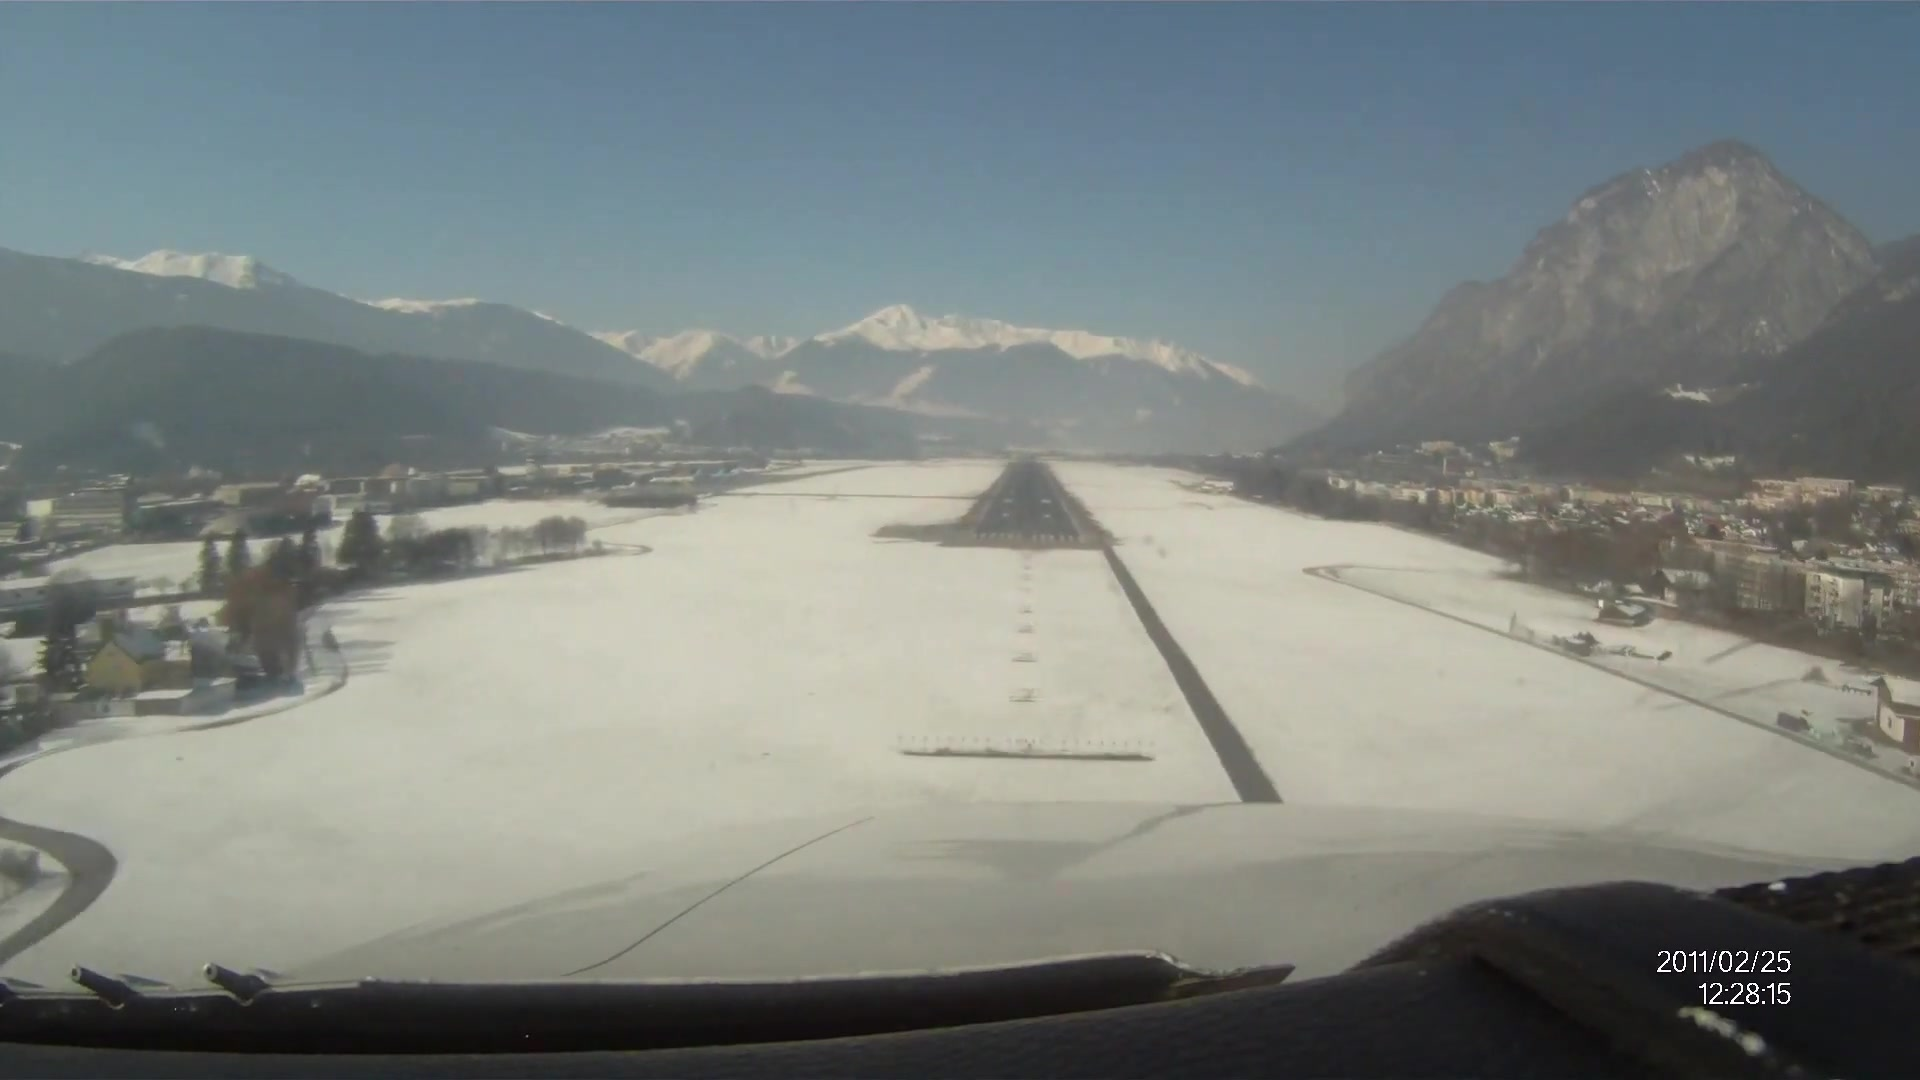entrance: (978, 531, 1077, 545)
runway: (977, 460, 1083, 545)
